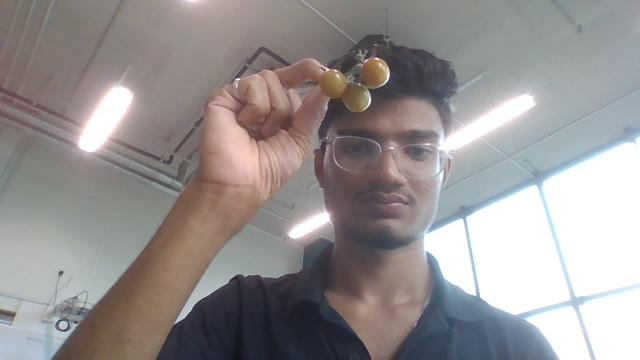Fully Grown: (360, 56, 391, 89), (341, 82, 371, 114), (318, 68, 348, 99)
